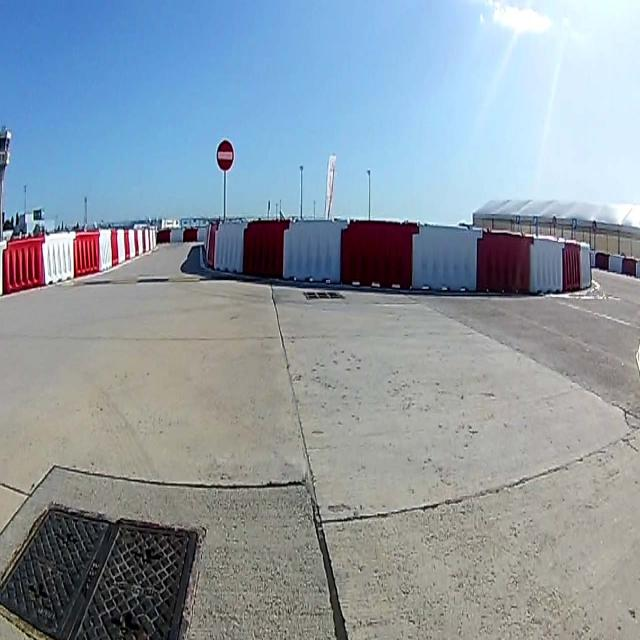girisyok: (216, 140, 234, 172)
